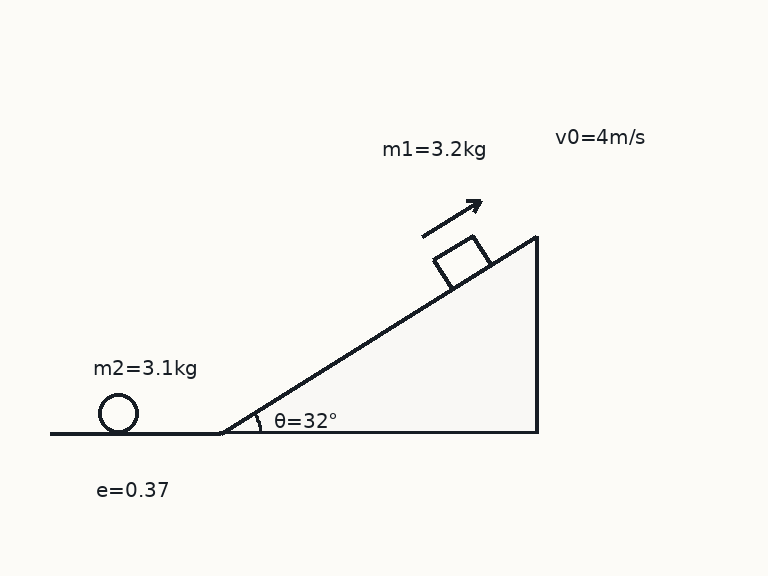ball: (96, 391, 140, 435)
block: (431, 233, 492, 291)
ramp: (218, 234, 537, 435)
